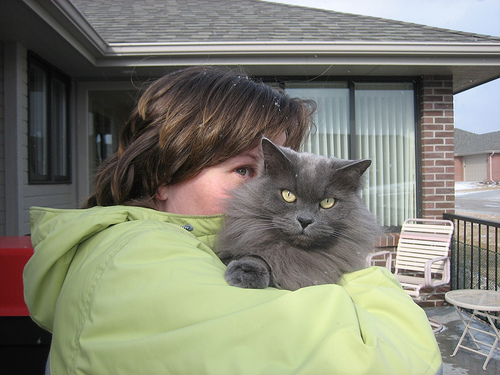without_mask: (158, 97, 295, 249)
